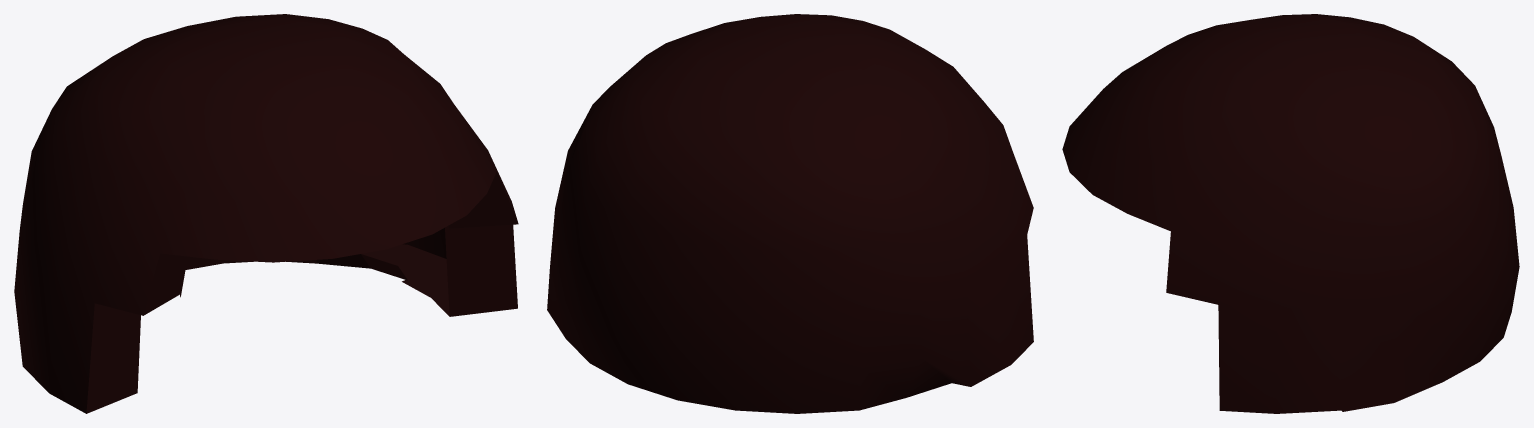
Rendered from Basic_Lady_Hair.fbx.
3 renders of one model, left to right at view 1: azimuth 30°, elevation 25°; view 2: azimuth 150°, elevation 25°; view 3: azimuth 270°, elevation 25°, orthographic. The views are drawn at different scales.
Visible parts, largest first — view 1: Simple_Hair; view 2: Simple_Hair; view 3: Simple_Hair.
Part boxes in pixels (x1,y1,x2,y2): Simple_Hair: (14, 14, 518, 413); Simple_Hair: (547, 14, 1033, 413); Simple_Hair: (1062, 14, 1519, 413).
Bounding box in the file's own units: 28.38 × 17.48 × 26.83.
